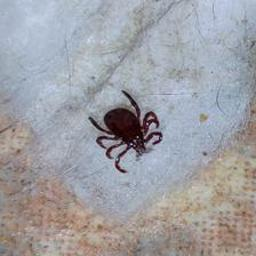Rhipicephalus sanguineus: (89, 89, 161, 174)
